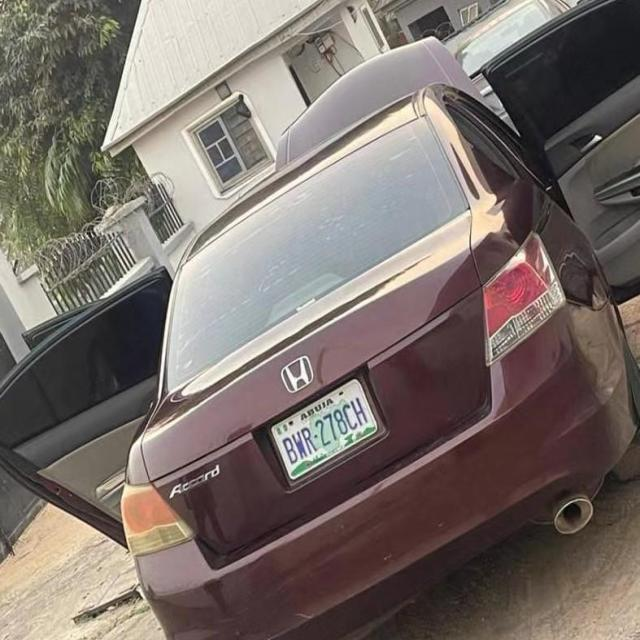Nigerian License Plate - vdataset benjamin-daria: (272, 372, 383, 483)
